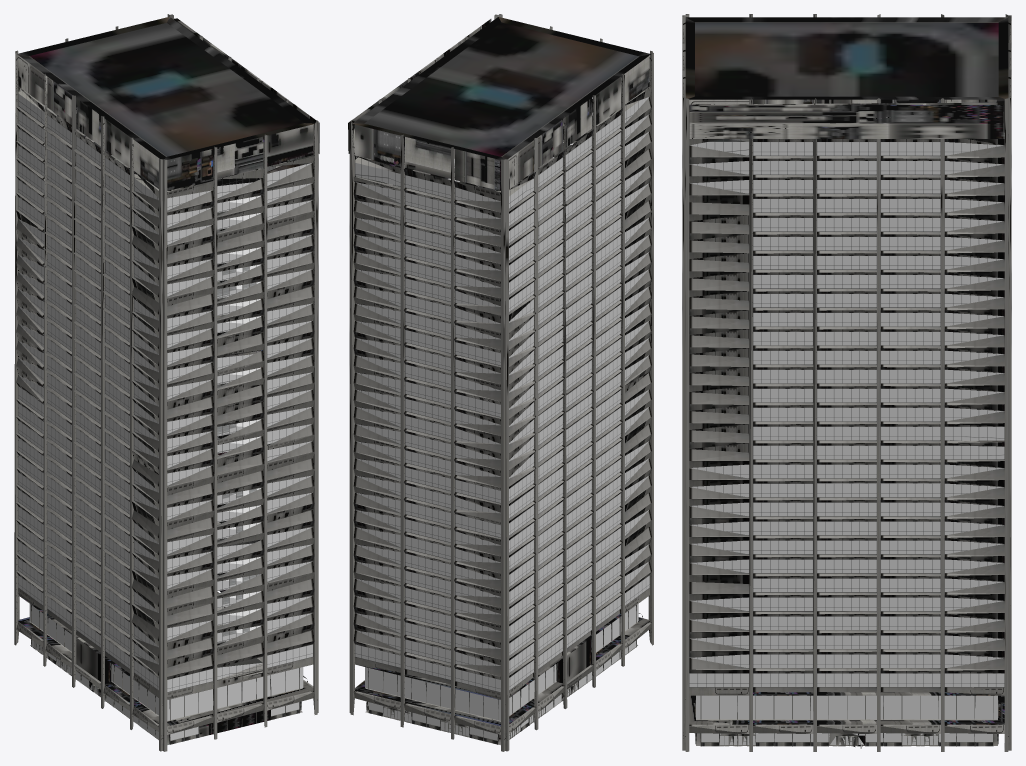
File: grid_tower_lod1.glb
3 views of the same model, side by side, from view 1: azimuth 30°, elevation 25°; view 2: azimuth 150°, elevation 25°; view 3: azimuth 270°, elevation 25° (orthographic). The views are drawn at different scales.
Visible parts, largest first — view 1: grid_tower; view 2: grid_tower; view 3: grid_tower.
Boxes of the visible parts, left/top/right/bottom form: grid_tower: left=14, top=14, right=319, bottom=751; grid_tower: left=348, top=14, right=653, bottom=751; grid_tower: left=682, top=14, right=1011, bottom=751.
Bounding box in the file's own units: 60.55 × 212 × 96.85.
7 materials, 6 textured.
